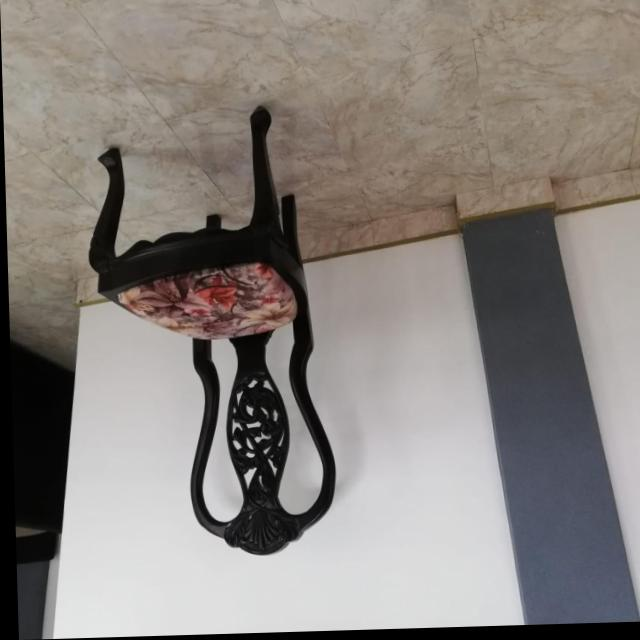Chair: (81, 105, 334, 562)
